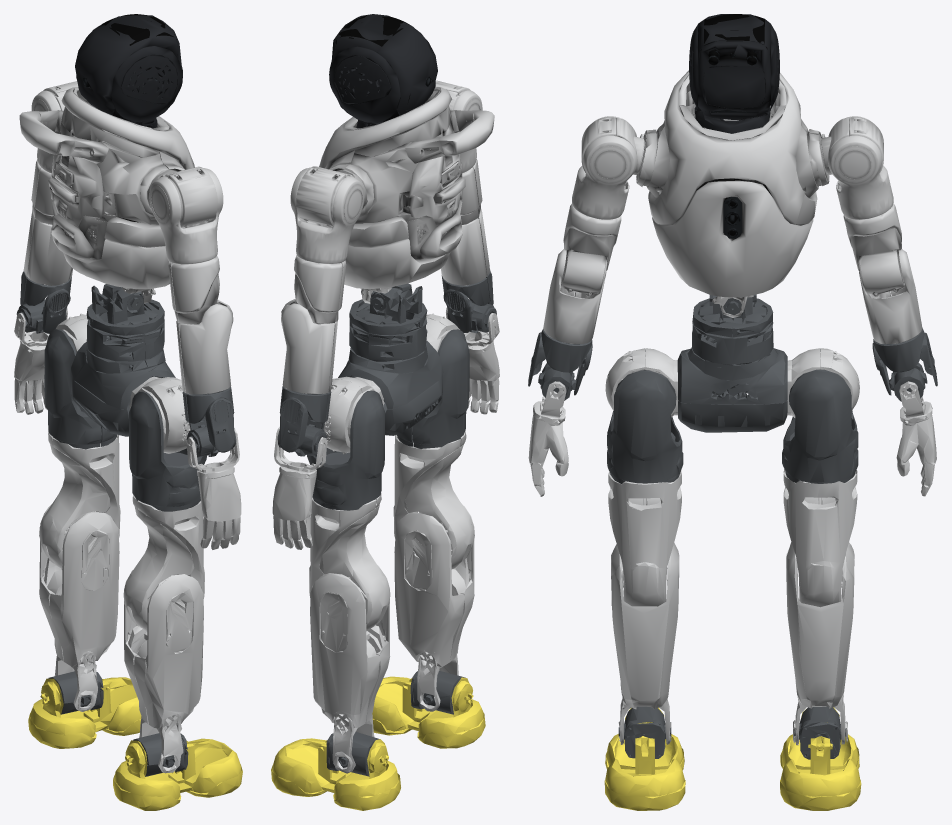
Rendered from x2-ultra-mobile.glb.
The picture shows the model from 3 angles, left to right: view 1: azimuth 30°, elevation 25°; view 2: azimuth 150°, elevation 25°; view 3: azimuth 270°, elevation 25°; orthographic projection. The views are drawn at different scales.
Visible parts, largest first — view 1: torso_link_visual, left_knee_link_visual, right_knee_link_visual, head_pitch_link_visual, right_ankle_roll_link_visual, left_hip_yaw_link_visual, right_hip_yaw_link_visual, right_hip_roll_link_visual, left_ankle_roll_link_visual, pelvis_visual, waist_yaw_link_visual, left_hip_roll_link_visual (+17 smaller); view 2: torso_link_visual, right_knee_link_visual, left_knee_link_visual, head_pitch_link_visual, left_ankle_roll_link_visual, right_hip_yaw_link_visual, left_hip_yaw_link_visual, left_hip_roll_link_visual, right_ankle_roll_link_visual, pelvis_visual, waist_yaw_link_visual, right_hip_roll_link_visual (+17 smaller); view 3: torso_link_visual, head_pitch_link_visual, pelvis_visual, left_knee_link_visual, right_knee_link_visual, left_hip_roll_link_visual, right_hip_roll_link_visual, right_hip_yaw_link_visual, left_hip_yaw_link_visual, left_ankle_roll_link_visual, right_ankle_roll_link_visual, waist_yaw_link_visual (+20 smaller).
Part boxes in pixels (bbox=[...]): torso_link_visual: bbox=[19, 87, 194, 303]; left_knee_link_visual: bbox=[39, 504, 119, 711]; right_knee_link_visual: bbox=[124, 570, 203, 773]; head_pitch_link_visual: bbox=[75, 14, 182, 123]; right_ankle_roll_link_visual: bbox=[113, 738, 242, 810]; left_hip_yaw_link_visual: bbox=[39, 431, 120, 568]; right_hip_yaw_link_visual: bbox=[123, 494, 204, 631]; right_hip_roll_link_visual: bbox=[129, 391, 206, 511]; left_ankle_roll_link_visual: bbox=[28, 677, 141, 748]; pelvis_visual: bbox=[71, 336, 175, 436]; waist_yaw_link_visual: bbox=[86, 284, 164, 368]; left_hip_roll_link_visual: bbox=[44, 329, 116, 449]; torso_link_visual: bbox=[319, 87, 494, 303]; right_knee_link_visual: bbox=[394, 506, 474, 711]; left_knee_link_visual: bbox=[310, 565, 390, 773]; head_pitch_link_visual: bbox=[329, 14, 437, 124]; left_ankle_roll_link_visual: bbox=[271, 738, 400, 810]; right_hip_yaw_link_visual: bbox=[393, 430, 474, 569]; left_hip_yaw_link_visual: bbox=[309, 493, 390, 631]; left_hip_roll_link_visual: bbox=[307, 390, 384, 510]; right_ankle_roll_link_visual: bbox=[372, 676, 485, 748]; pelvis_visual: bbox=[338, 336, 443, 435]; waist_yaw_link_visual: bbox=[349, 283, 427, 368]; right_hip_roll_link_visual: bbox=[397, 329, 469, 448]; torso_link_visual: bbox=[636, 70, 829, 317]; head_pitch_link_visual: bbox=[689, 14, 779, 119]; pelvis_visual: bbox=[677, 337, 787, 432]; left_knee_link_visual: bbox=[786, 542, 854, 745]; right_knee_link_visual: bbox=[611, 543, 679, 744]; left_hip_roll_link_visual: bbox=[782, 349, 858, 483]; right_hip_roll_link_visual: bbox=[607, 349, 683, 483]; right_hip_yaw_link_visual: bbox=[608, 470, 681, 606]; left_hip_yaw_link_visual: bbox=[783, 469, 857, 607]; left_ankle_roll_link_visual: bbox=[780, 707, 861, 810]; right_ankle_roll_link_visual: bbox=[604, 707, 685, 810]; waist_yaw_link_visual: bbox=[692, 295, 773, 364].
Bounding box in the file's own units: 0.3063 × 1.32 × 0.641.
